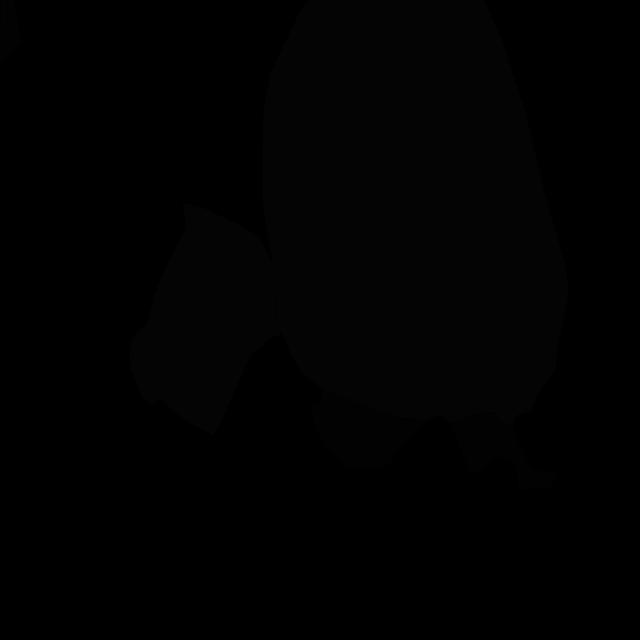cardboard: (310, 389, 427, 468), (452, 413, 560, 490)
soft_plastic: (262, 0, 568, 426), (130, 202, 281, 435)
